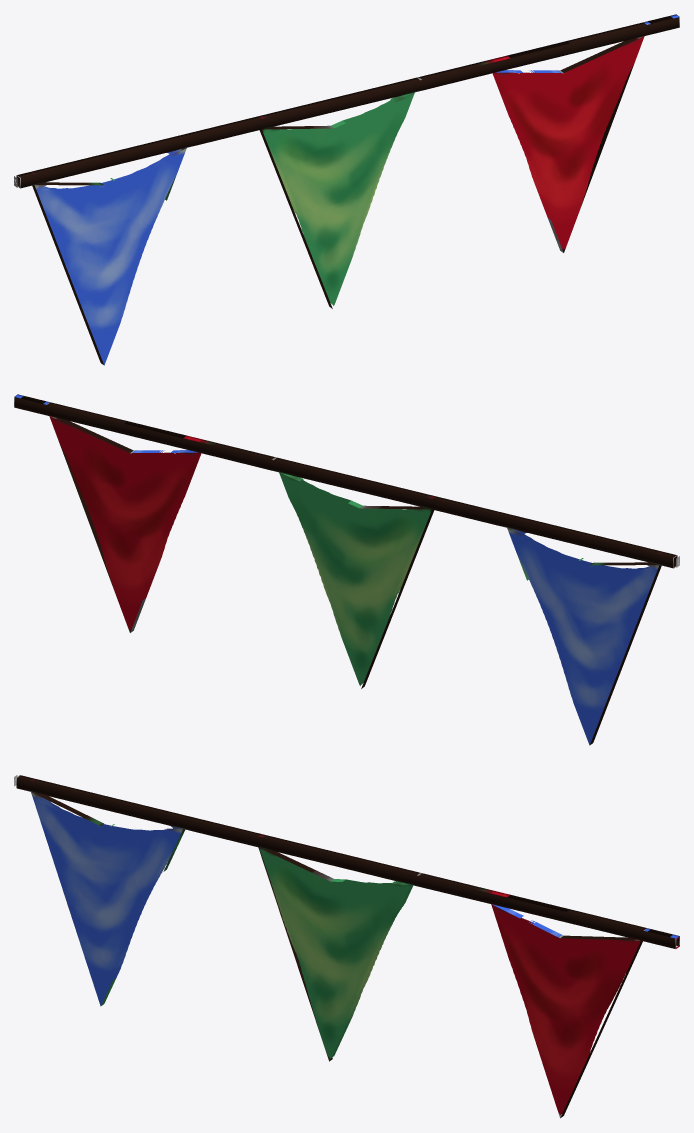
Rendered from Bunting.fbx.
The picture shows the model from 3 angles, top to bottom: view 1: azimuth 30°, elevation 25°; view 2: azimuth 150°, elevation 25°; view 3: azimuth 330°, elevation 25°; orthographic projection.
Parts seen in each view (by area): view 1: Bunting1; view 2: Bunting1; view 3: Bunting1.
Boxes of the visible parts, x1,y1,x2,y2 form: Bunting1: [14, 14, 679, 365]; Bunting1: [14, 394, 679, 745]; Bunting1: [14, 775, 679, 1118].
Bounding box in the file's own units: 3.78 × 1.14 × 0.0364.
1 material, 1 textured.
